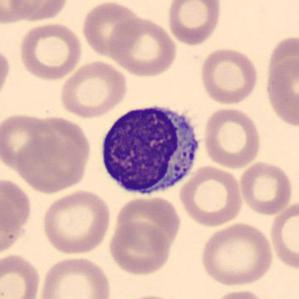Lymphocyte: (94, 98, 205, 199)
RBC: (198, 220, 275, 288), (13, 130, 91, 195), (40, 188, 112, 256), (107, 16, 179, 77), (58, 59, 130, 120), (178, 163, 244, 228), (16, 20, 84, 82), (112, 194, 183, 252), (201, 105, 262, 170), (106, 219, 173, 276), (198, 45, 260, 106), (80, 1, 144, 58), (36, 254, 113, 299), (0, 110, 56, 171), (237, 159, 294, 217), (262, 53, 299, 129), (165, 0, 223, 47), (0, 173, 33, 254), (267, 198, 299, 272), (0, 251, 42, 299), (272, 35, 299, 103), (7, 0, 70, 23), (0, 0, 42, 26), (0, 44, 12, 102), (208, 288, 269, 299)
